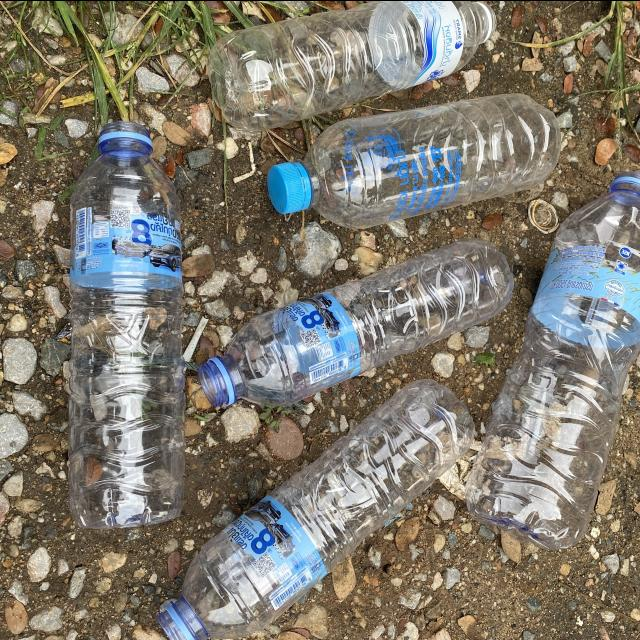plastik: (157, 378, 474, 640), (466, 171, 640, 548), (197, 238, 513, 405), (68, 120, 184, 528), (267, 93, 560, 228), (208, 0, 495, 130)
